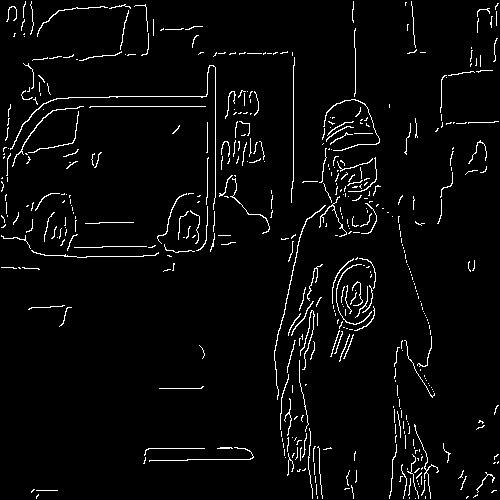mask: (327, 157, 388, 199)
